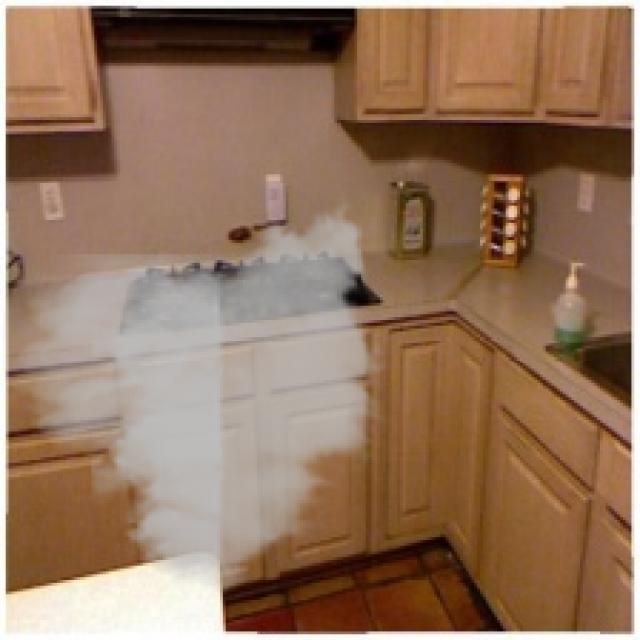smoke: (3, 191, 391, 606)
